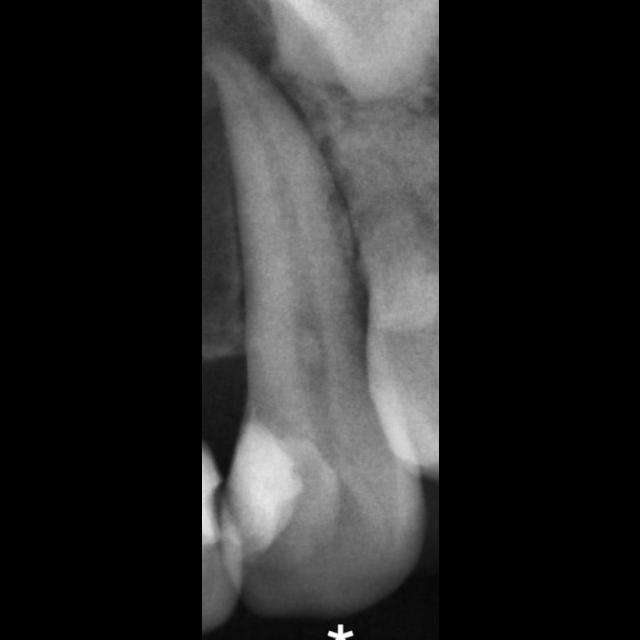tooth: (201, 36, 424, 622)
